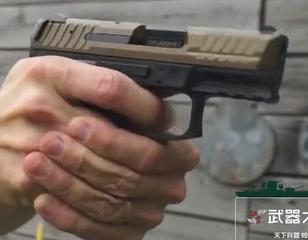gun: (1, 1, 308, 240)
